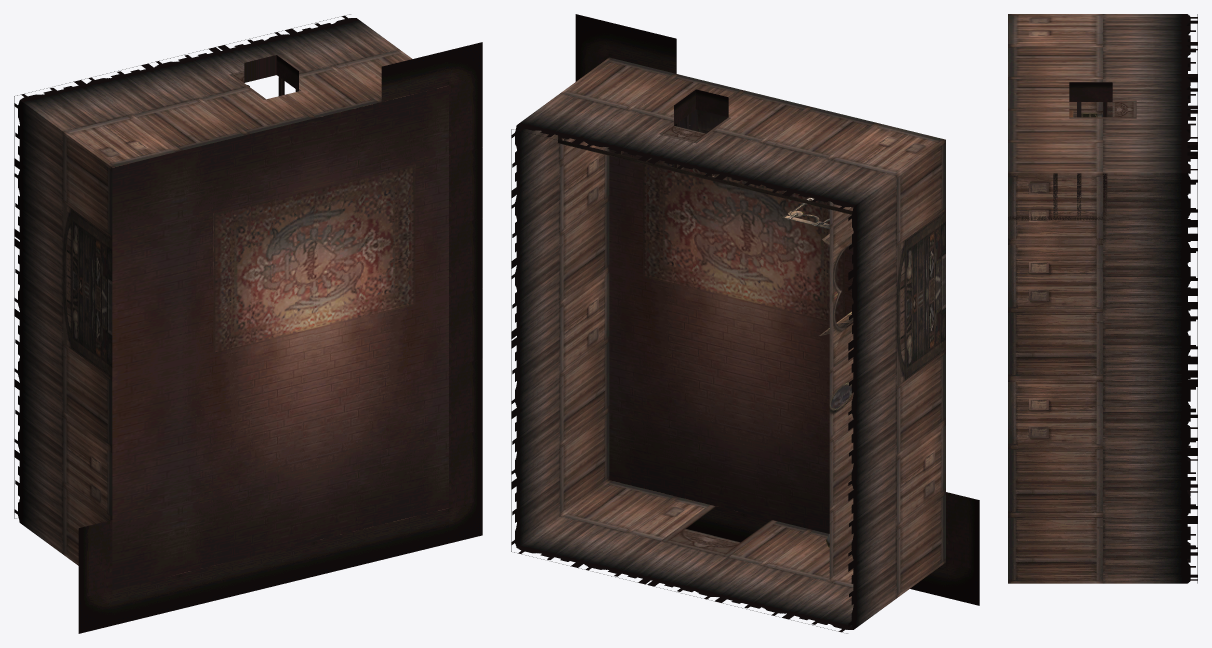
File: Cargo_Hold__303104__2.glb
The picture shows the model from 3 angles, left to right: view 1: azimuth 30°, elevation 25°; view 2: azimuth 150°, elevation 25°; view 3: azimuth 270°, elevation 25°; orthographic projection. The views are drawn at different scales.
Visible parts, largest first — view 1: Geometry_VisualMaterial0_0, Geometry7_VisualMaterial60_7, Geometry16_VisualMaterial140_16, Geometry1_VisualMaterial10_1, Geometry14_VisualMaterial120_14, Geometry17_VisualMaterial150_17; view 2: Geometry16_VisualMaterial140_16, Geometry14_VisualMaterial120_14, Geometry_VisualMaterial0_0, Geometry1_VisualMaterial10_1, Geometry7_VisualMaterial60_7, Geometry17_VisualMaterial150_17, Geometry13_VisualMaterial120_13, Geometry8_VisualMaterial70_8, Geometry15_VisualMaterial130_15, Geometry11_VisualMaterial100_11, Geometry6_VisualMaterial60_6; view 3: Geometry14_VisualMaterial120_14, Geometry16_VisualMaterial140_16, Geometry7_VisualMaterial60_7, Geometry11_VisualMaterial100_11, Geometry15_VisualMaterial130_15, Geometry6_VisualMaterial60_6, Geometry13_VisualMaterial120_13.
Part boxes in pixels (<box>): Geometry_VisualMaterial0_0: <box>112,85,448,590</box>; Geometry7_VisualMaterial60_7: <box>78,42,482,633</box>; Geometry16_VisualMaterial140_16: <box>14,14,399,554</box>; Geometry1_VisualMaterial10_1: <box>213,164,415,354</box>; Geometry14_VisualMaterial120_14: <box>63,50,412,565</box>; Geometry17_VisualMaterial150_17: <box>63,202,112,378</box>; Geometry16_VisualMaterial140_16: <box>511,93,896,633</box>; Geometry14_VisualMaterial120_14: <box>560,57,945,597</box>; Geometry_VisualMaterial0_0: <box>609,132,853,533</box>; Geometry1_VisualMaterial10_1: <box>643,157,844,322</box>; Geometry7_VisualMaterial60_7: <box>575,14,979,605</box>; Geometry17_VisualMaterial150_17: <box>897,210,945,386</box>; Geometry13_VisualMaterial120_13: <box>829,201,853,581</box>; Geometry8_VisualMaterial70_8: <box>819,214,853,369</box>; Geometry15_VisualMaterial130_15: <box>659,117,776,556</box>; Geometry11_VisualMaterial100_11: <box>558,122,852,214</box>; Geometry6_VisualMaterial60_6: <box>677,109,727,133</box>; Geometry14_VisualMaterial120_14: <box>1008,14,1102,583</box>; Geometry16_VisualMaterial140_16: <box>1103,14,1197,583</box>; Geometry7_VisualMaterial60_7: <box>1069,82,1112,101</box>; Geometry11_VisualMaterial100_11: <box>1008,102,1107,220</box>; Geometry15_VisualMaterial130_15: <box>1069,100,1136,118</box>; Geometry6_VisualMaterial60_6: <box>1053,102,1081,216</box>; Geometry13_VisualMaterial120_13: <box>1069,102,1102,114</box>.
Bounding box in the file's own units: 5249 × 6125 × 2201.
16 materials, 16 textured.
